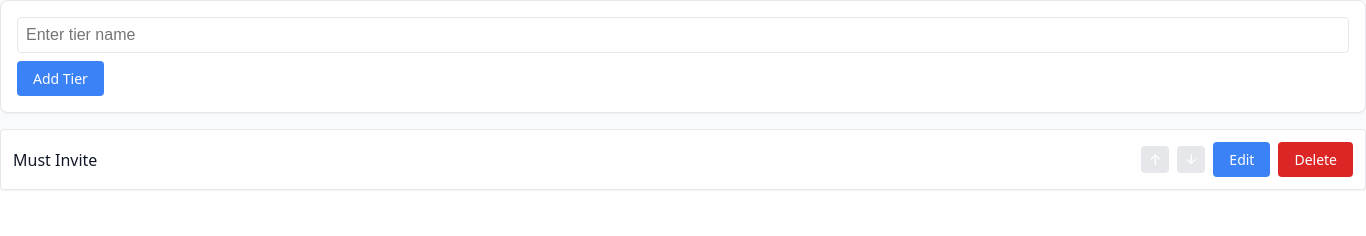
Test: TierManager › validates duplicate tier name
Type "Must Invite" into the field with placeholder "Enter tier name" at (683, 35), box [17,17,1349,53]
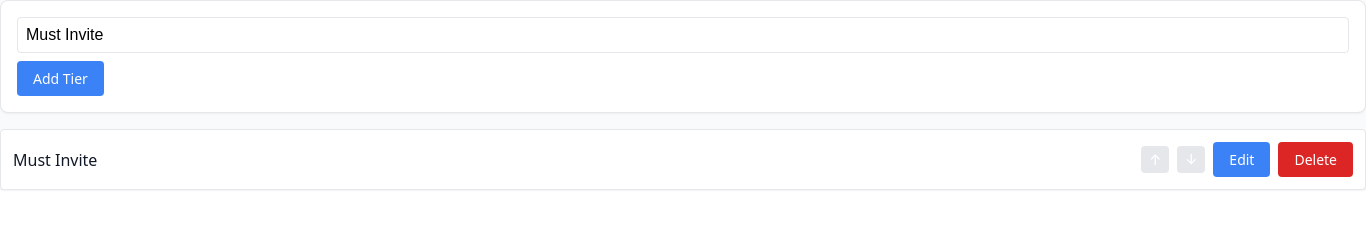
Click the button "Add Tier" at (60, 78), box [17,61,104,96]
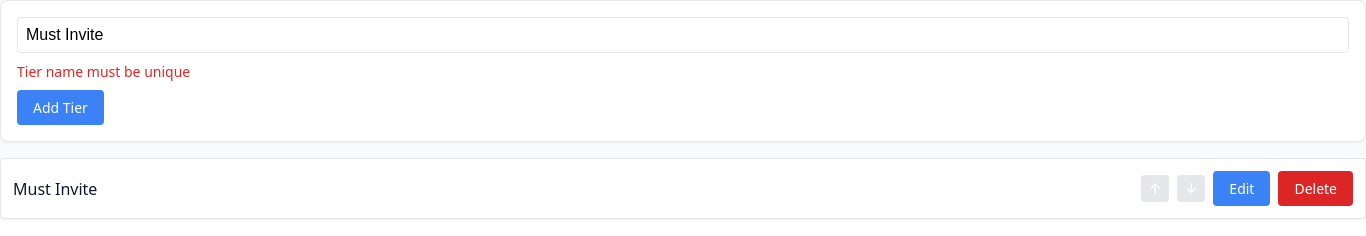
Now the text "Tier name must be unique" is shown, box [17,62,190,81]
